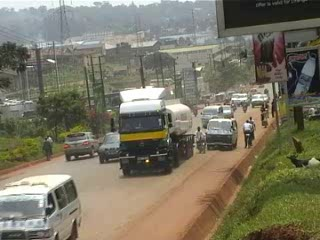Car: (62, 128, 100, 162), (94, 127, 120, 166), (220, 103, 234, 121), (230, 88, 241, 105), (239, 92, 251, 104)
Motorcycle: (195, 123, 208, 155), (240, 97, 249, 114), (228, 97, 236, 111), (223, 95, 232, 106)
